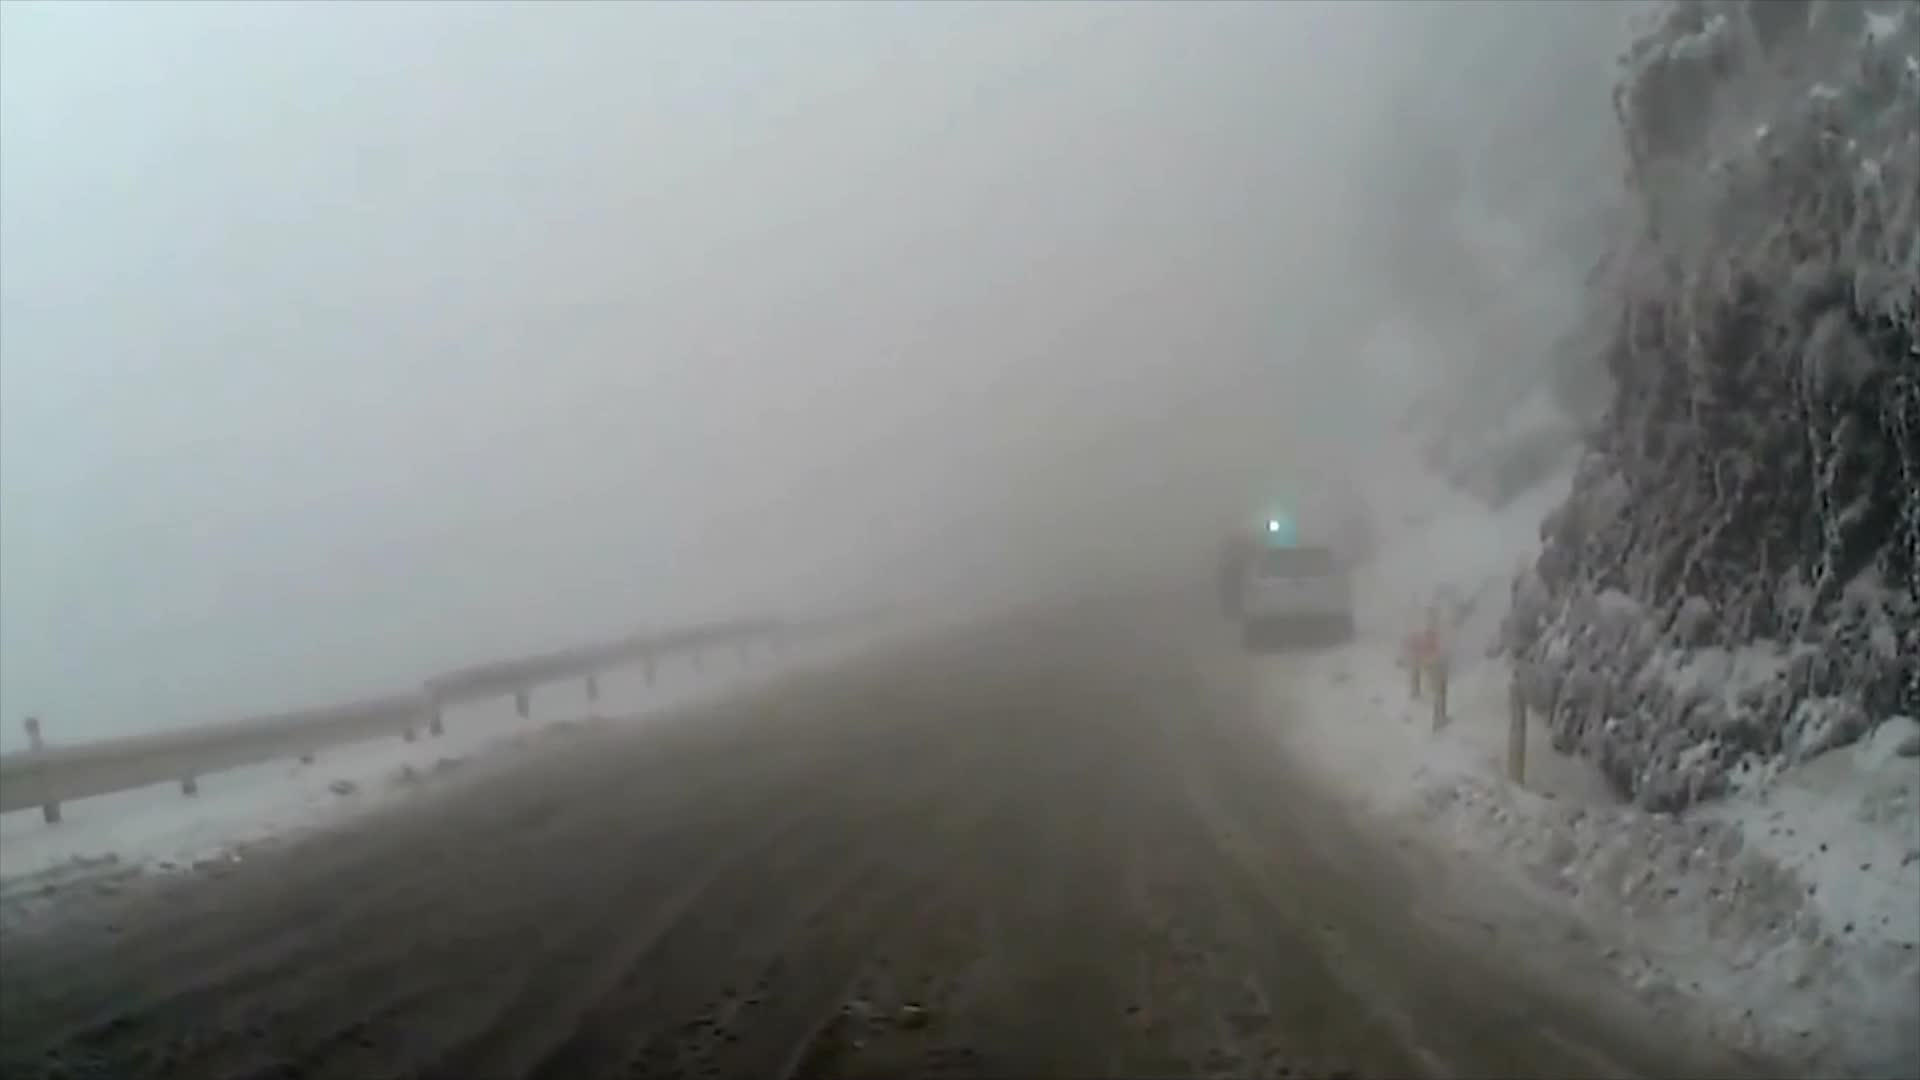vehicle: (1242, 541, 1357, 650)
